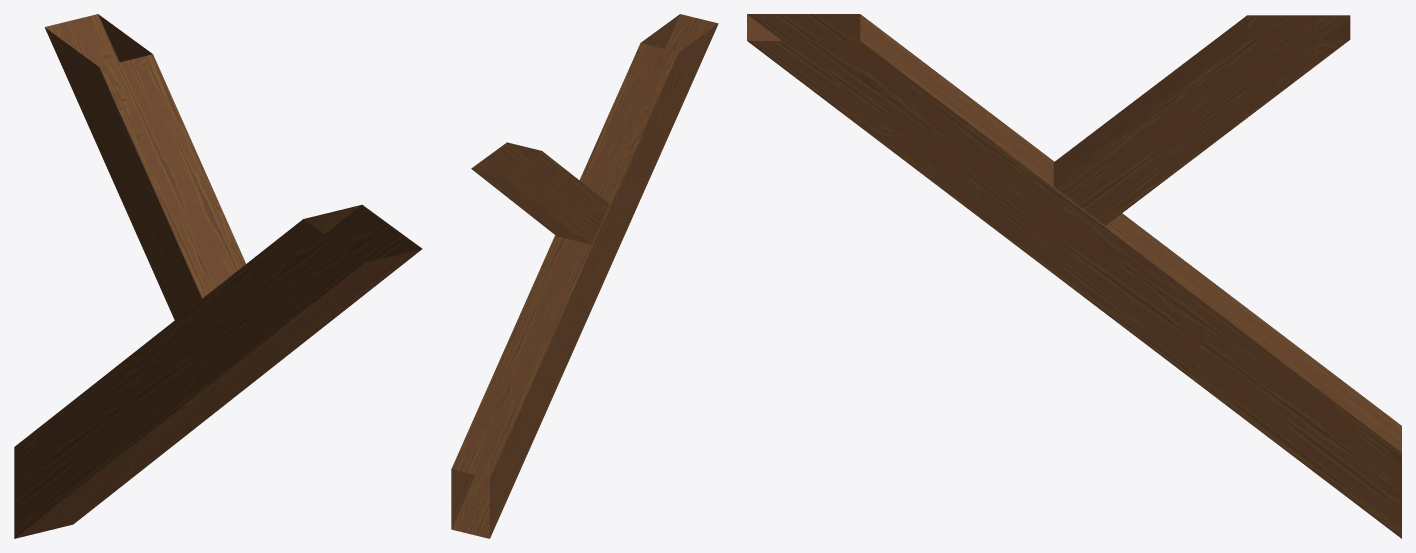
Rendered from Prop_Support.glb.
The picture shows the model from 3 angles, left to right: view 1: azimuth 30°, elevation 25°; view 2: azimuth 150°, elevation 25°; view 3: azimuth 270°, elevation 25°; orthographic projection. The views are drawn at different scales.
Parts seen in each view (by area): view 1: Prop_Support; view 2: Prop_Support; view 3: Prop_Support.
Part boxes in pixels (x1,y1,x2,y2): Prop_Support: [14, 14, 422, 538]; Prop_Support: [451, 14, 718, 538]; Prop_Support: [747, 14, 1401, 538].
Size of the model in its own units: 0.1986 by 1.71 by 2.04.
1 material, 1 textured.
